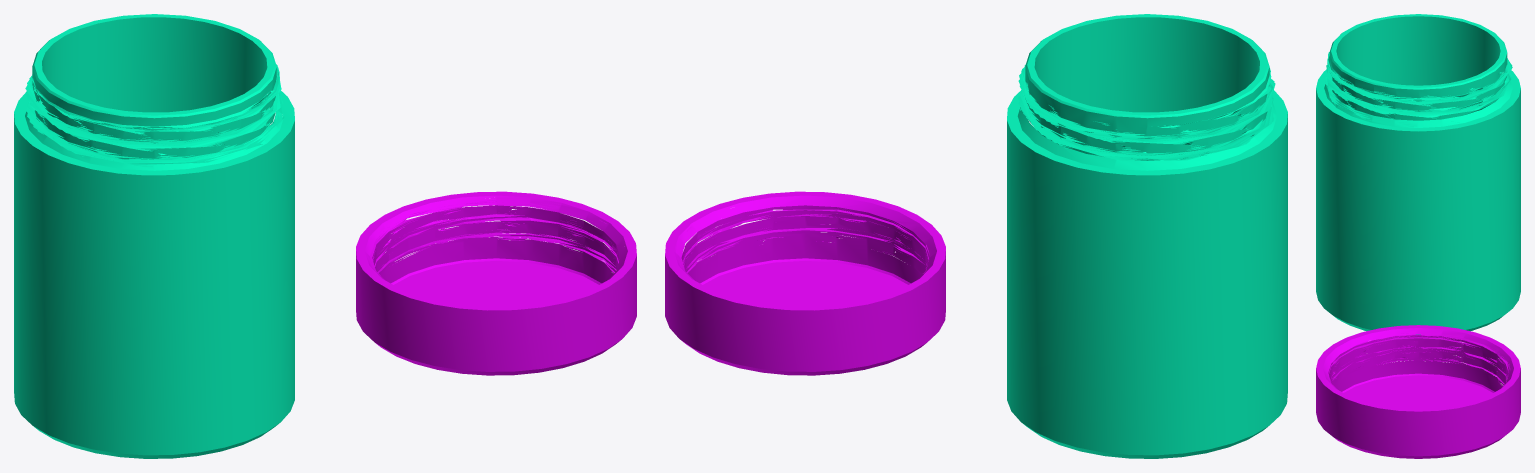
File: gallery-3.glb
The picture shows the model from 3 angles, left to right: view 1: azimuth 30°, elevation 25°; view 2: azimuth 150°, elevation 25°; view 3: azimuth 270°, elevation 25°; orthographic projection. The views are drawn at different scales.
Size of the model in its own units: 89.8 by 49.5 by 37.4.
